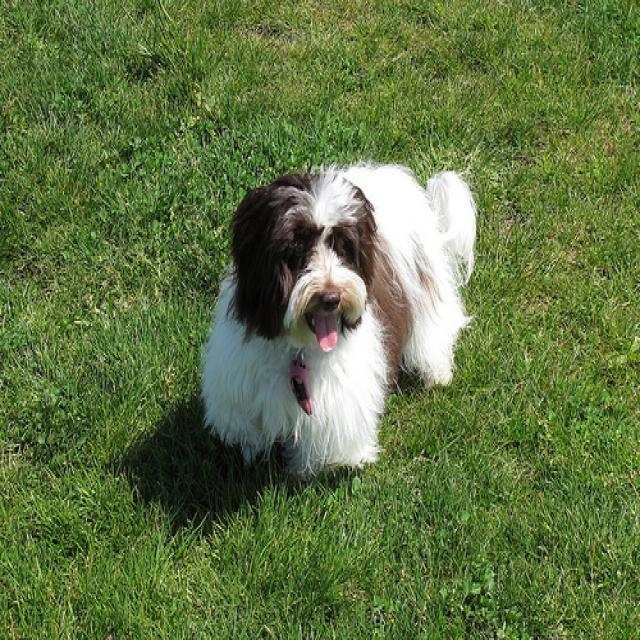dog-havanese: (195, 154, 485, 492)
